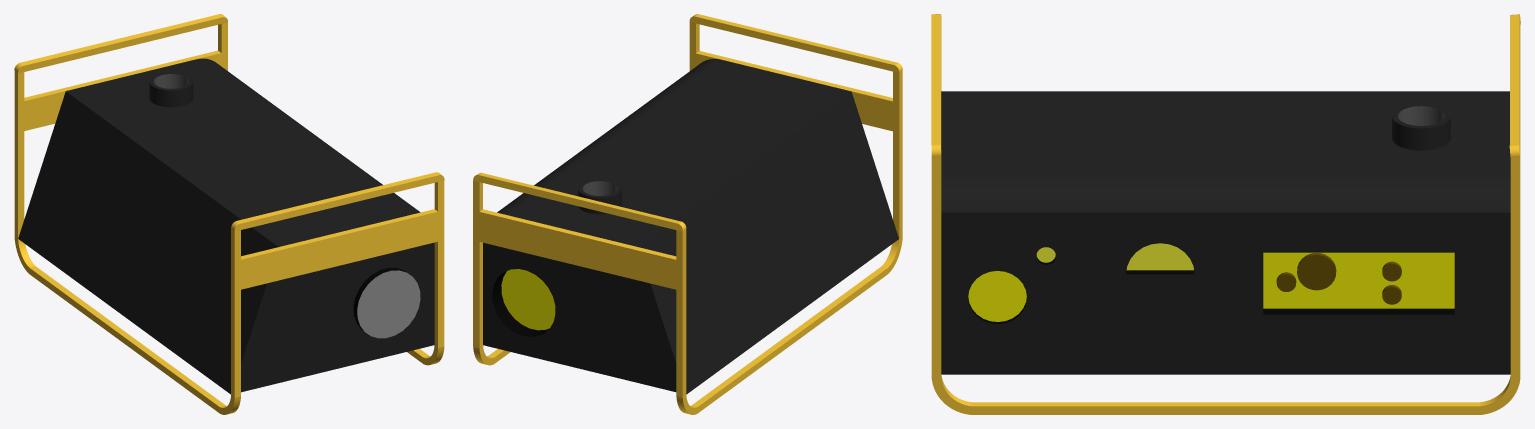
The model's file is Generator.fbx.
The picture shows the model from 3 angles, left to right: view 1: azimuth 30°, elevation 25°; view 2: azimuth 150°, elevation 25°; view 3: azimuth 270°, elevation 25°; orthographic projection. The views are drawn at different scales.
Visible parts, largest first — view 1: Group1, Group2, Group3, Group4; view 2: Group1, Group2, Group3, Group4; view 3: Group1, Group4, Group2.
Part boxes in pixels (x1,y1,x2,y2): Group1: (18,58,434,394); Group2: (14,14,444,289); Group3: (14,71,240,414); Group4: (218,22,444,365); Group1: (483,59,898,394); Group2: (473,14,902,289); Group3: (676,71,902,414); Group4: (473,22,699,365); Group1: (941,91,1510,374); Group4: (931,157,1520,414); Group2: (931,14,1520,157).
Bounding box in the file's own units: 4.13 × 3.75 × 7.51.
